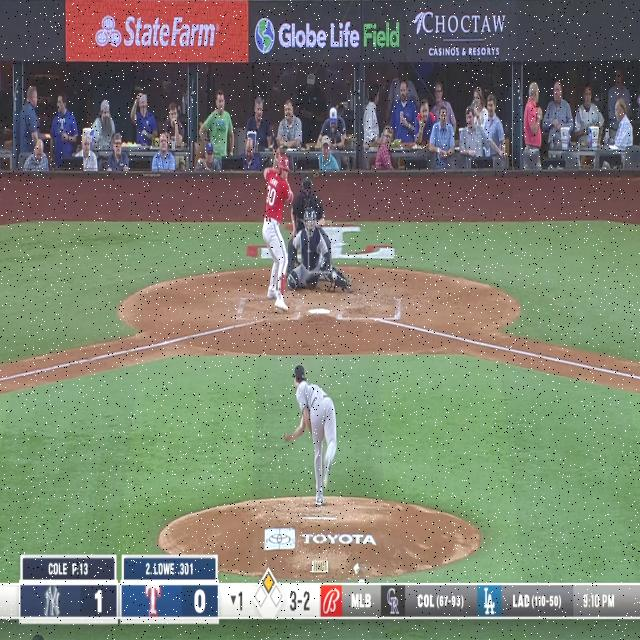baseball: (332, 271, 337, 280)
